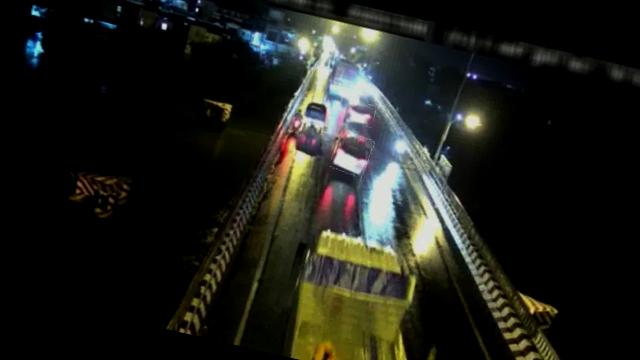Bike: (288, 106, 306, 132)
Car: (329, 130, 374, 178), (342, 99, 376, 128)
